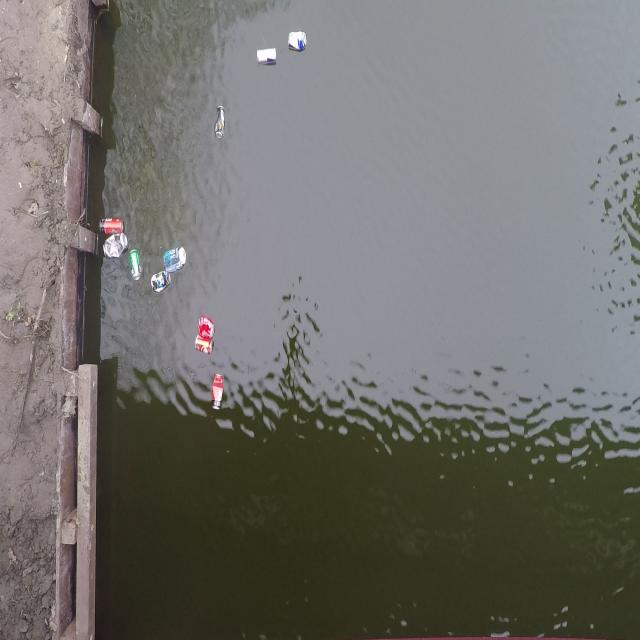Non plastique: (208, 369, 230, 419), (283, 26, 312, 62), (158, 247, 192, 277), (253, 40, 279, 76), (95, 209, 126, 238), (149, 268, 174, 302), (212, 100, 230, 144), (192, 312, 218, 340), (128, 246, 145, 288), (102, 235, 130, 259), (190, 334, 219, 357)
